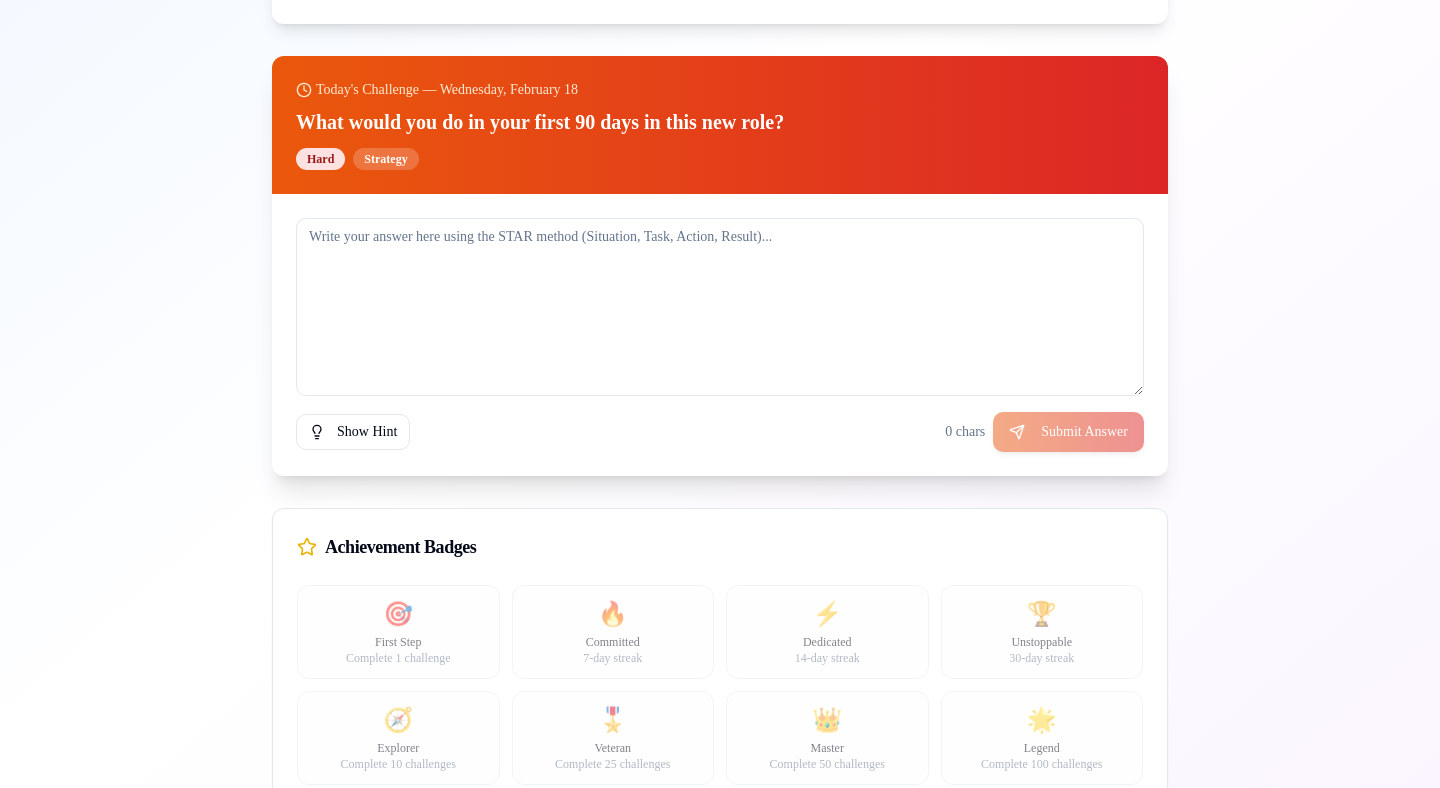
Test: DailyChallengeClient › should show hint when hint button is clicked
(page scrolled)
Step 1. Click the button "Show Hint" → (353, 432), box x1=296 y1=414 x2=410 y2=450
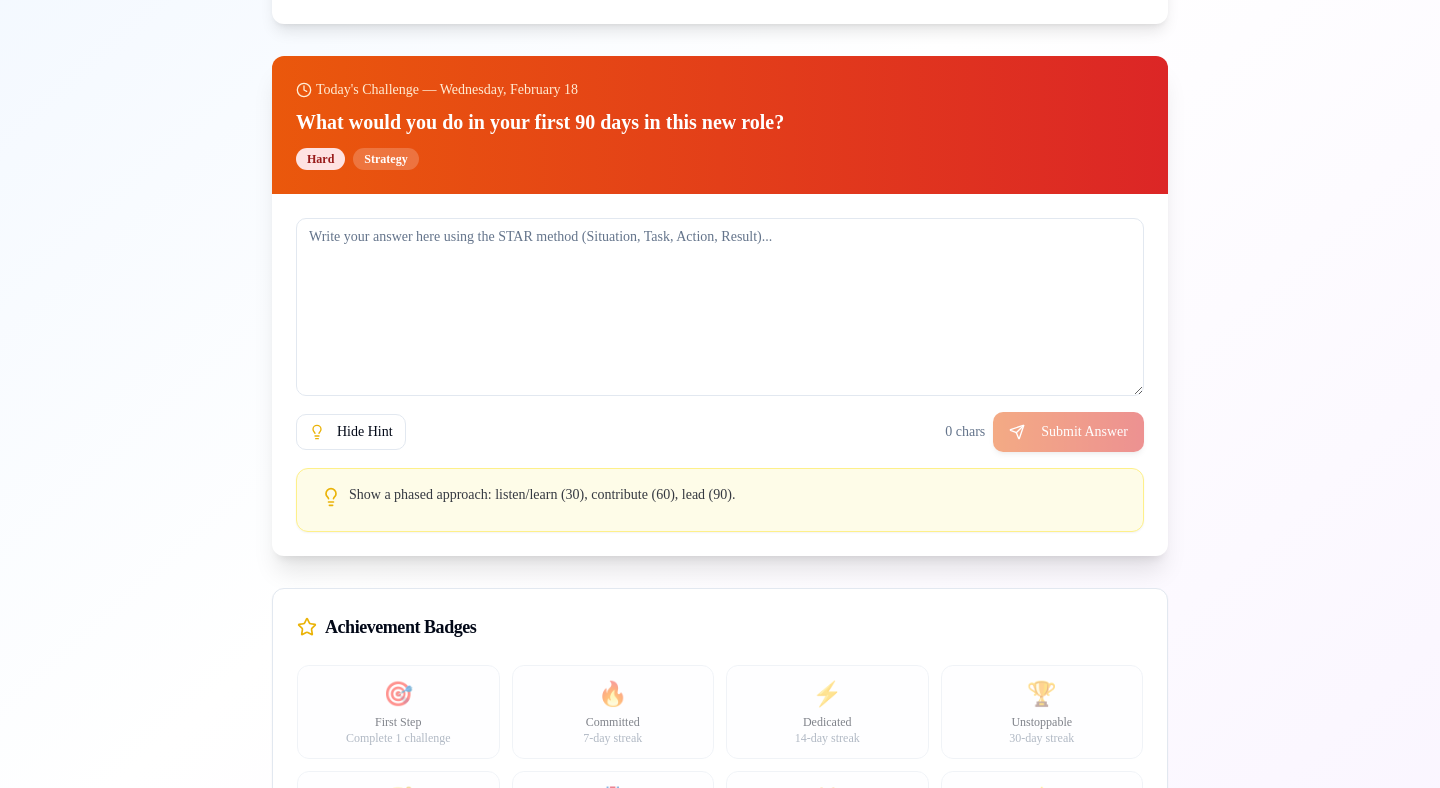
Now the button "Hide Hint" is shown, box x1=296 y1=414 x2=406 y2=450
